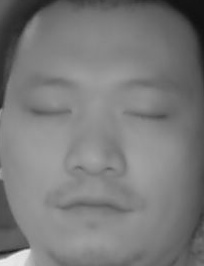blink: (124, 104, 167, 128), (31, 100, 75, 122)
mouth: (57, 189, 132, 227)
